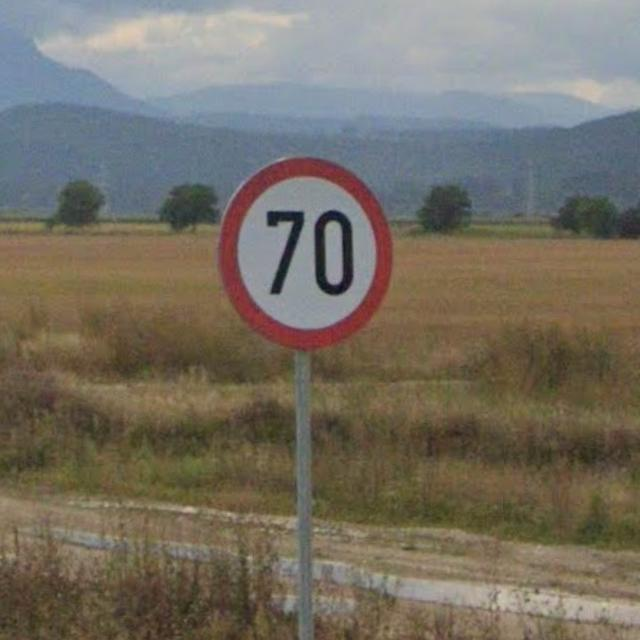forb_speed_over_70: (215, 155, 394, 346)
